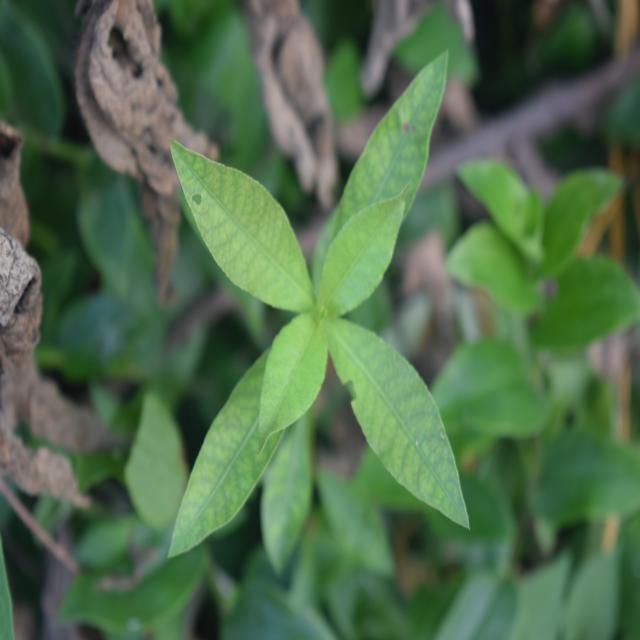Alligatorweed: (170, 72, 483, 538)
